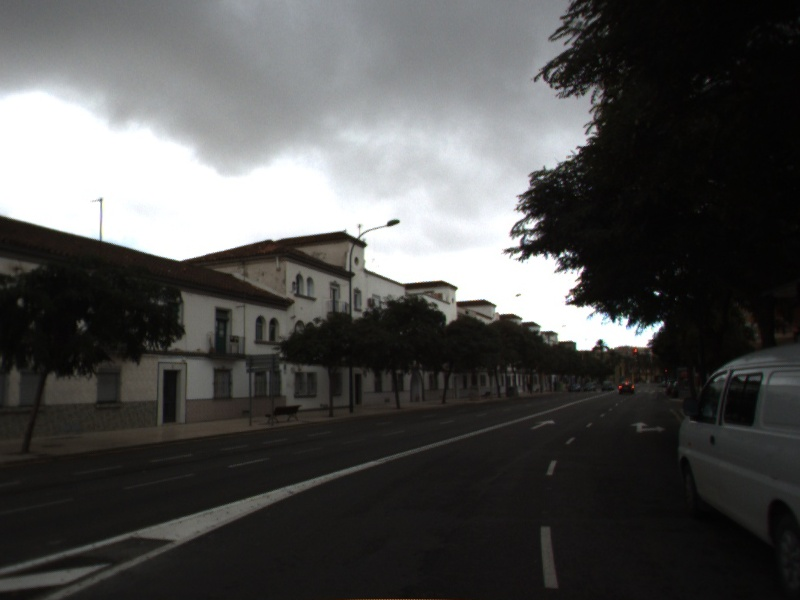STRAIGHT: (529, 418, 557, 431)
STRAIGHT_RIGHT: (629, 420, 668, 434)
